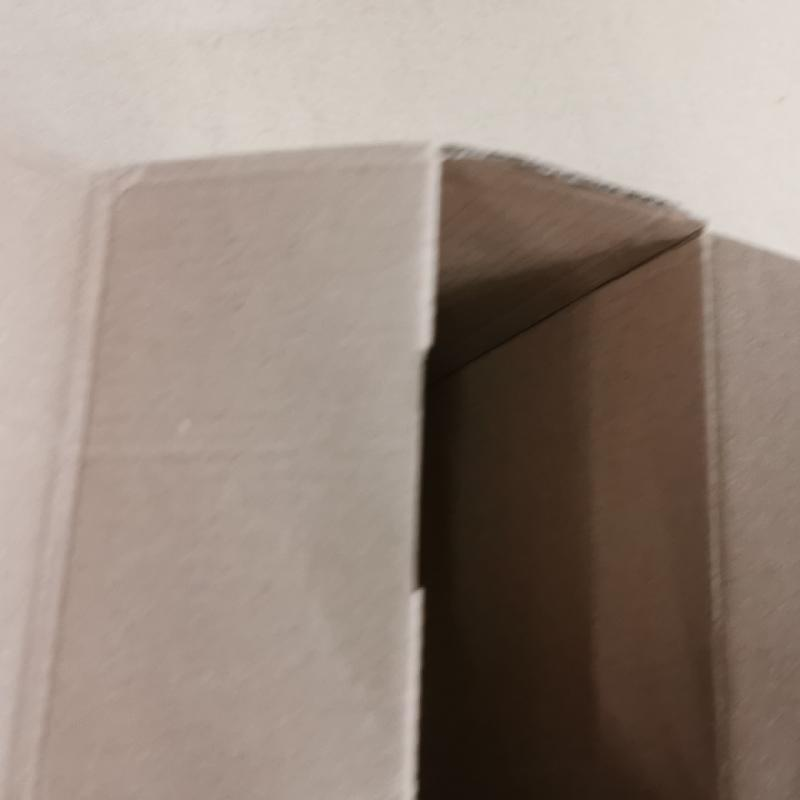boxes: (25, 159, 799, 799)
